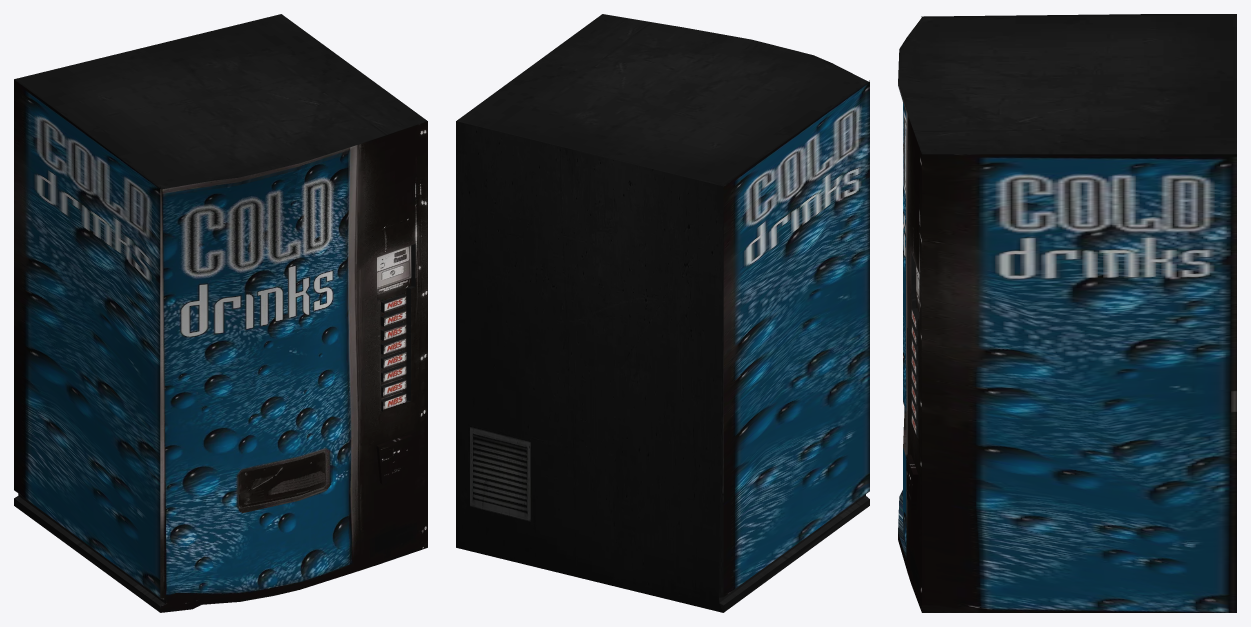
The model's file is vending2.glb.
3 views of the same model, side by side, from view 1: azimuth 30°, elevation 25°; view 2: azimuth 150°, elevation 25°; view 3: azimuth 270°, elevation 25° (orthographic). The views are drawn at different scales.
Parts seen in each view (by area): view 1: Object_2; view 2: Object_2; view 3: Object_2.
Part boxes in pixels (x1,y1,x2,y2): Object_2: (14, 14, 427, 612); Object_2: (456, 14, 869, 612); Object_2: (898, 14, 1236, 612).
Size of the model in its own units: 8.44 by 12.85 by 8.61.
1 material, 1 textured.
